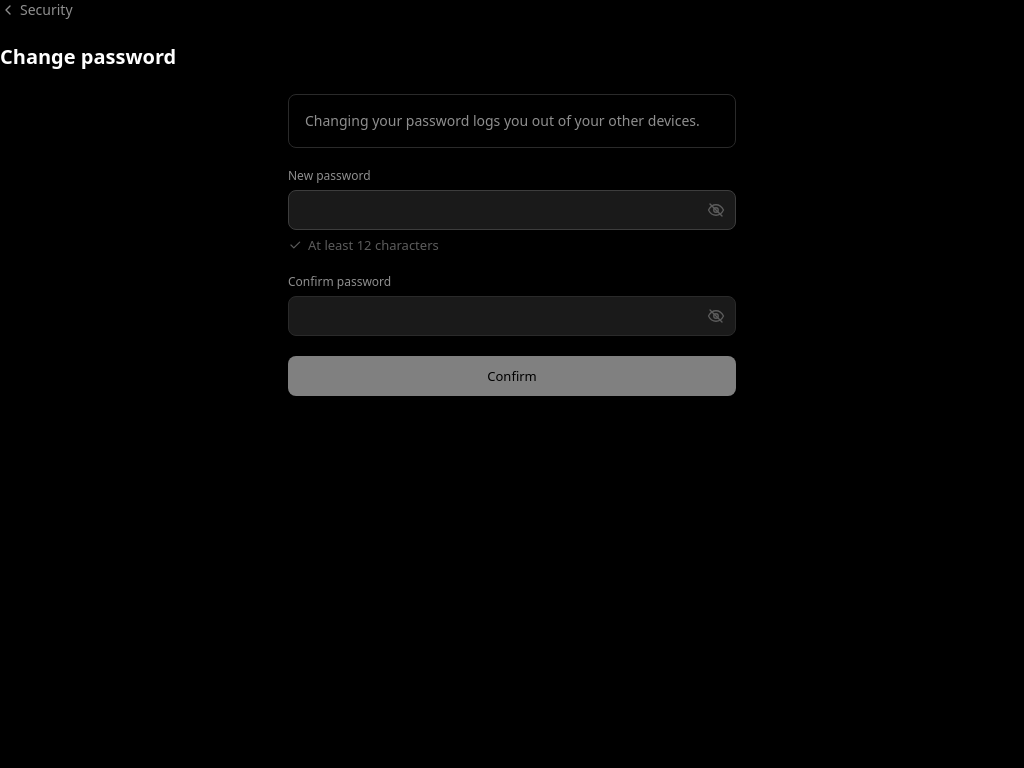
Test: ChangePassword › with 2FA on, asks for the authenticator code in a pop-up and sends only that
In the password field labelled "New password": (512, 210) top-left (288, 190), bottom-right (736, 230), type "a-long-new-password"
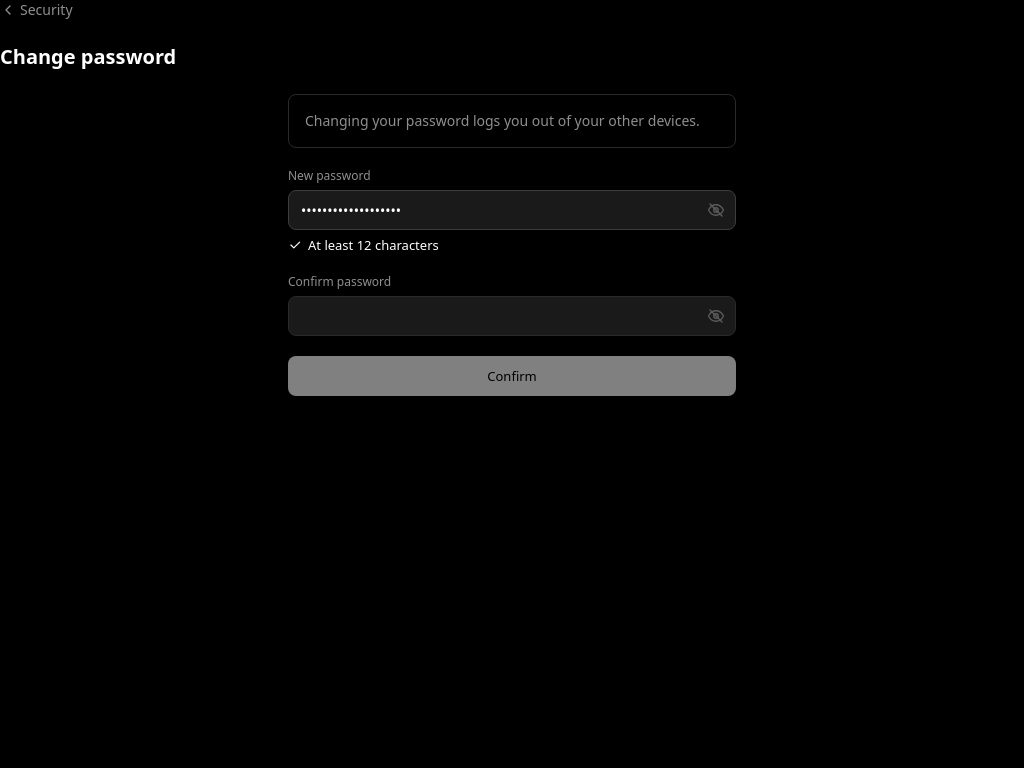
In the password field labelled "Confirm password": (512, 316) top-left (288, 296), bottom-right (736, 336), type "a-long-new-password"
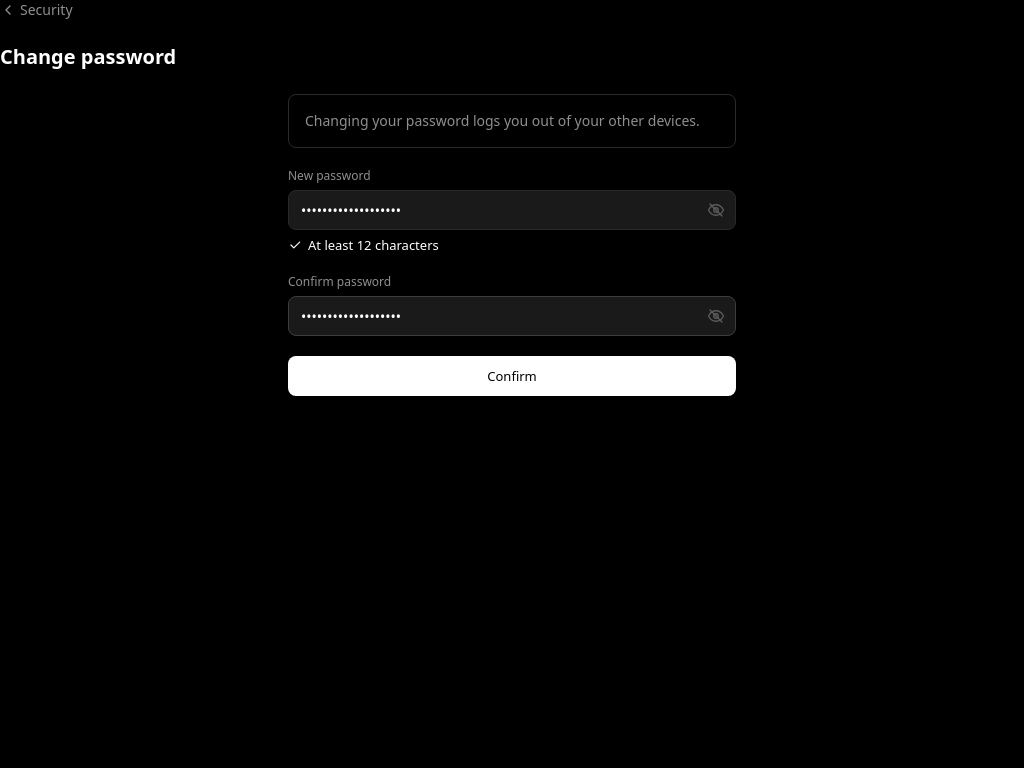
Click the button "Confirm": (512, 376) top-left (288, 356), bottom-right (736, 396)
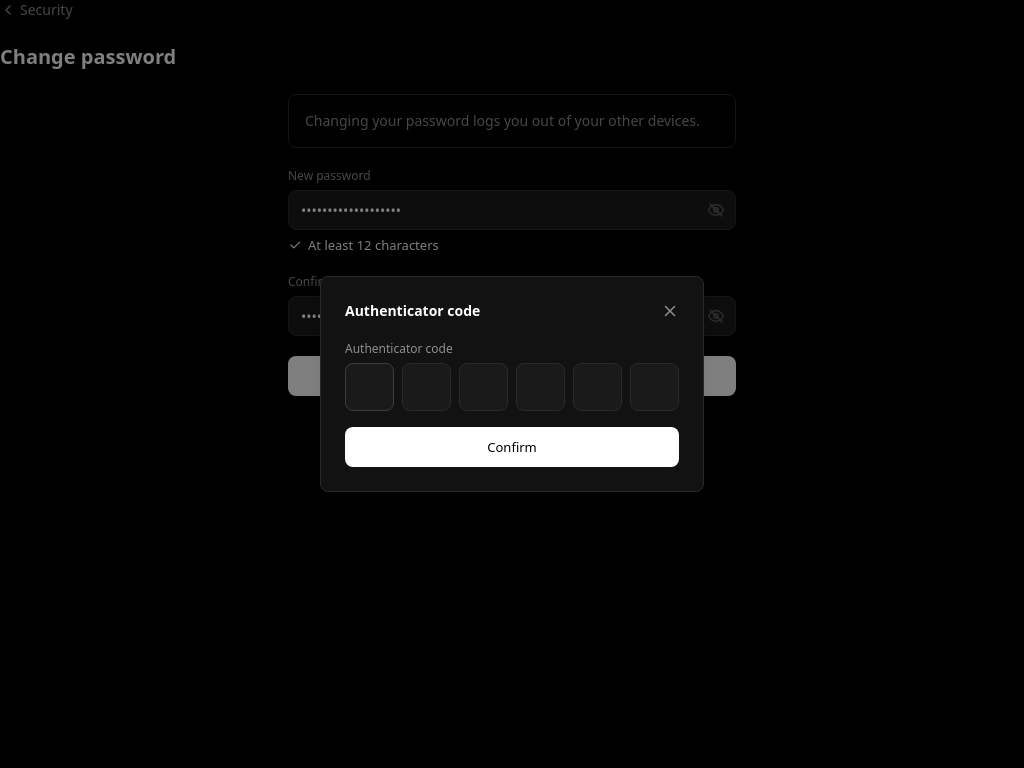
Now the dialog "Authenticator code" is shown, box top-left (320, 276), bottom-right (704, 492)
Type keys "123456"
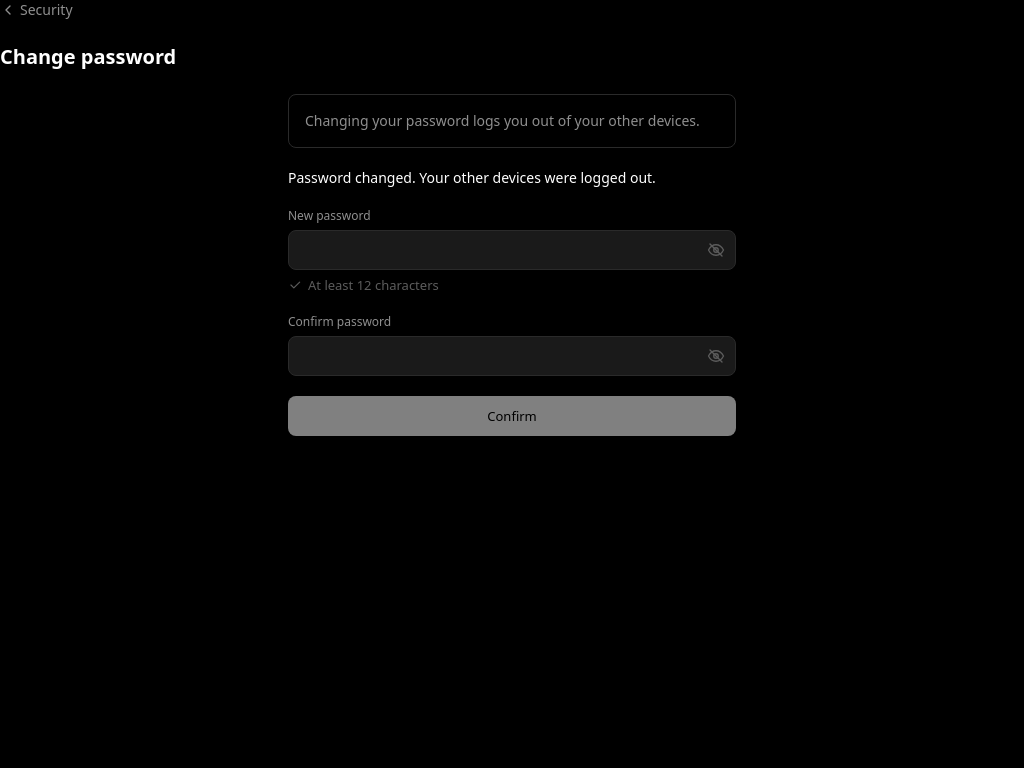
Now the message shows "Password changed", box top-left (288, 168), bottom-right (656, 187)
Now the dialog is gone
